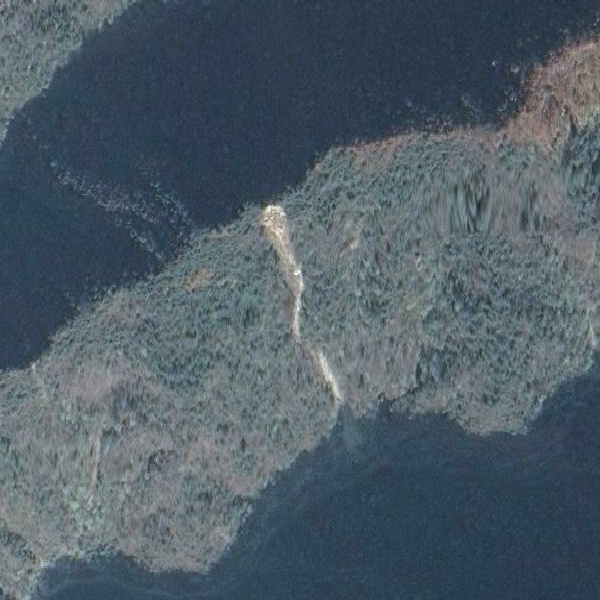slope: (255, 203, 303, 337)
